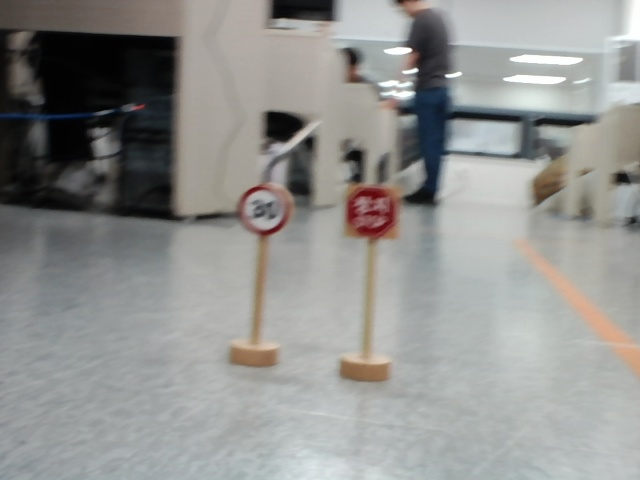limit_sign: (239, 185, 287, 232)
stop_sign: (348, 186, 395, 235)
